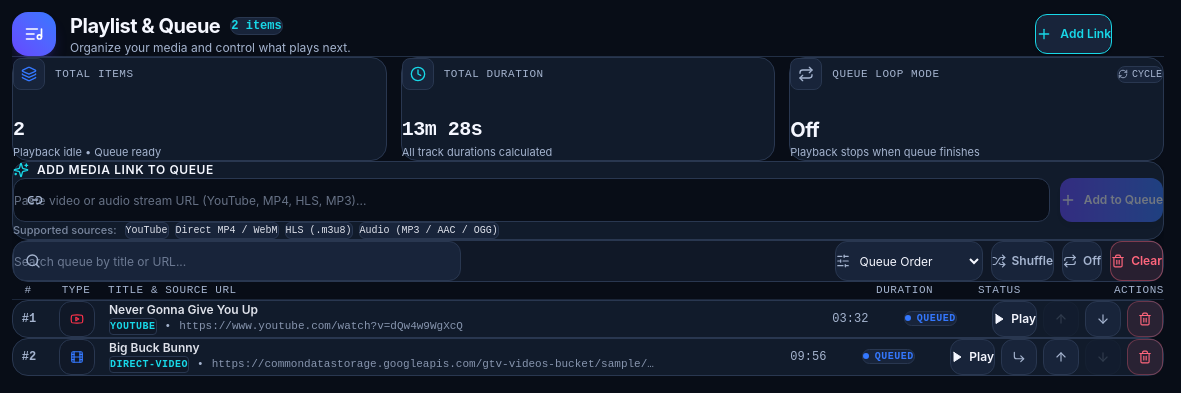
PlaylistScreen UI Redesign › filters queue items dynamically with search input
In the field with placeholder "Search queue by title or URL...": (237, 261) [13,241,461,281], type "Bunny"
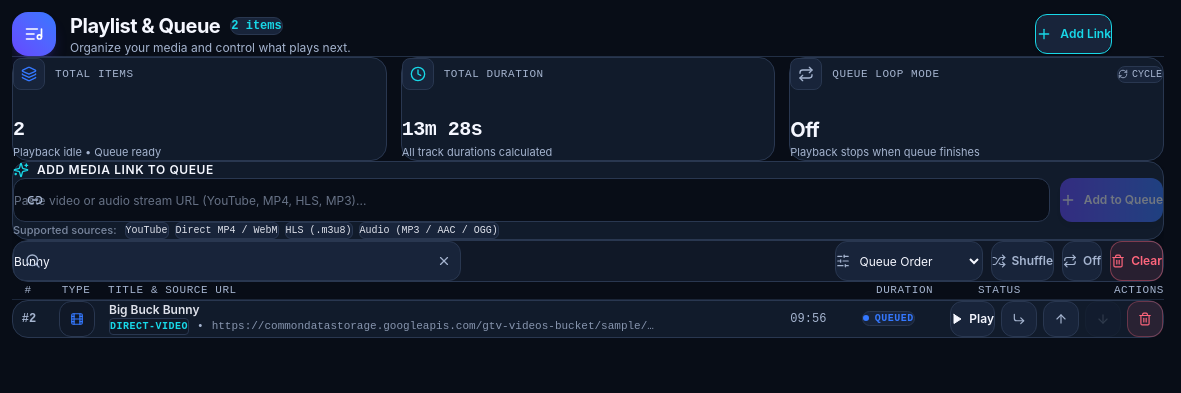
Check: the text "Big Buck Bunny" is shown, box [109,302,200,317]
Check: the text "Never Gonna Give You Up" is gone
